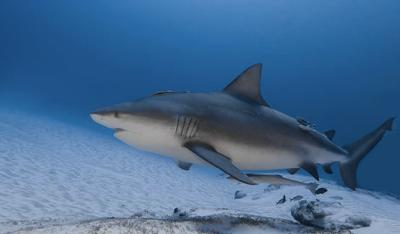Shark -Selachimorpha-: (82, 57, 400, 197)
